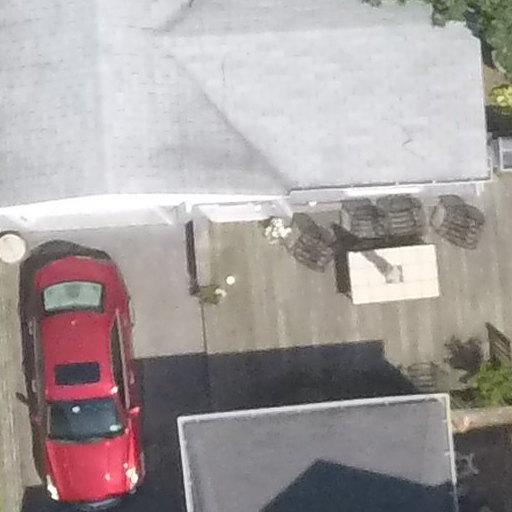car: (21, 250, 158, 510)
chair: (281, 210, 339, 286), (431, 186, 486, 255), (332, 192, 389, 248), (371, 190, 428, 242)
container: (1, 229, 28, 266), (224, 275, 236, 288)
table: (341, 238, 443, 309)
